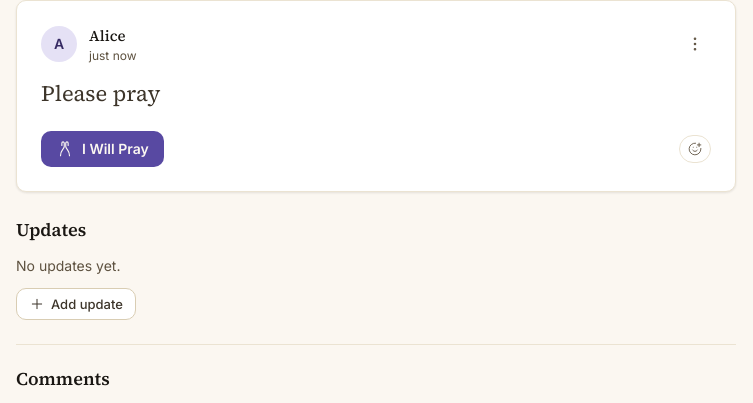
it: PostDetailPage › shows Edit in the kebab menu only within edit_deadline for author
This screenshot has width=753, height=403.
Click the button named "more actions" at (695, 44), box [679, 28, 711, 60]
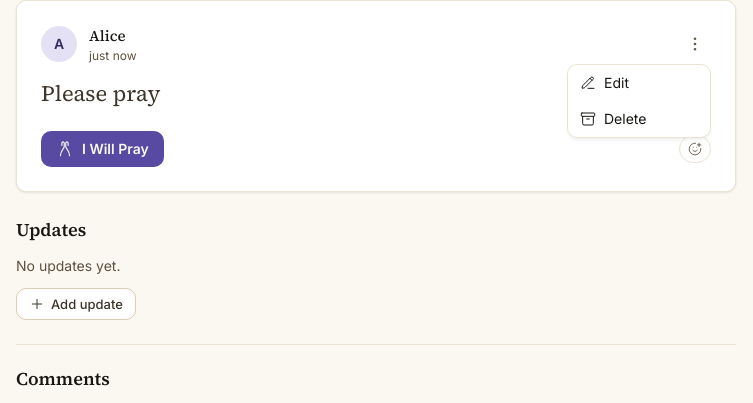
Expected: the menu item "Edit" is shown, [568, 65, 710, 101]
